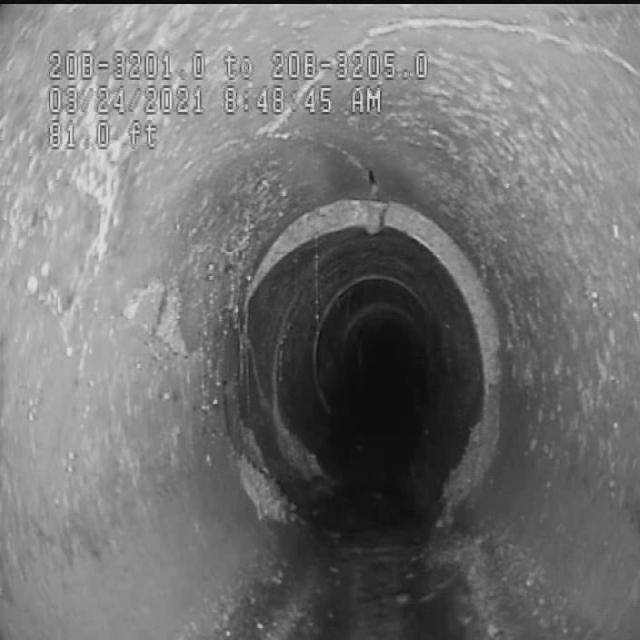Crack: (271, 0, 575, 152)
